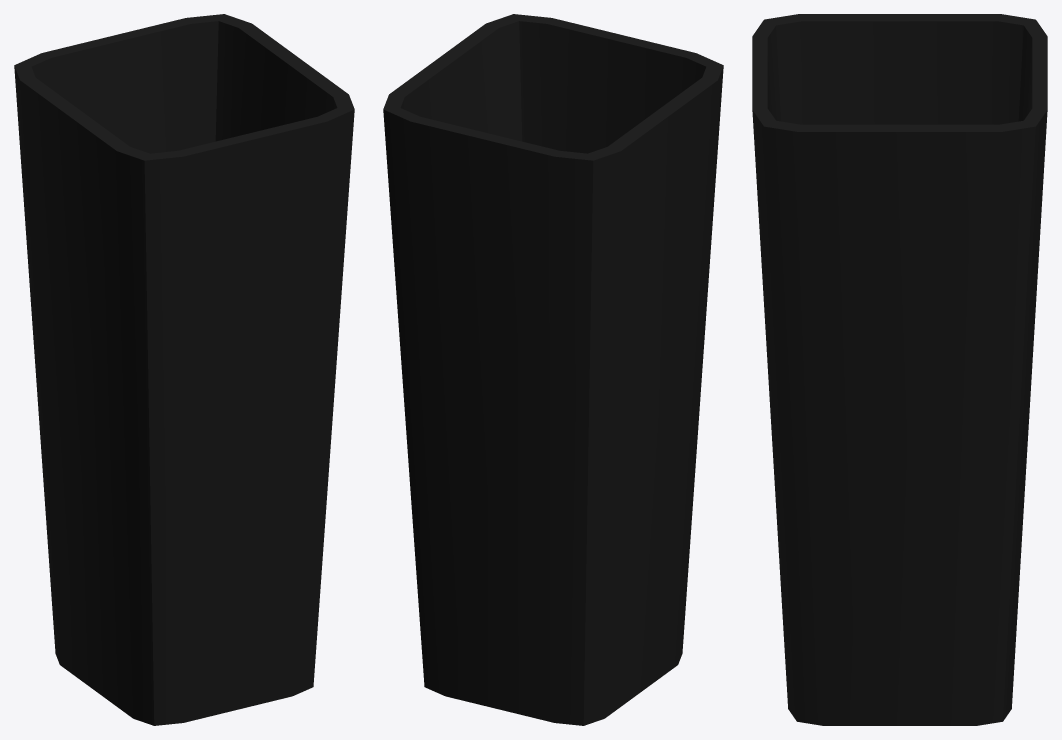
Rendered from Vase_02_B.FBX.
3 views of the same model, side by side, from view 1: azimuth 30°, elevation 25°; view 2: azimuth 150°, elevation 25°; view 3: azimuth 270°, elevation 25° (orthographic). The views are drawn at different scales.
Parts seen in each view (by area): view 1: Vase_02; view 2: Vase_02; view 3: Vase_02.
Part boxes in pixels (box(x1,y1,x2,y2)): Vase_02: box(14, 14, 354, 725); Vase_02: box(383, 14, 723, 725); Vase_02: box(752, 14, 1047, 725).
Size of the model in its own units: 37.5 by 90 by 39.6.
